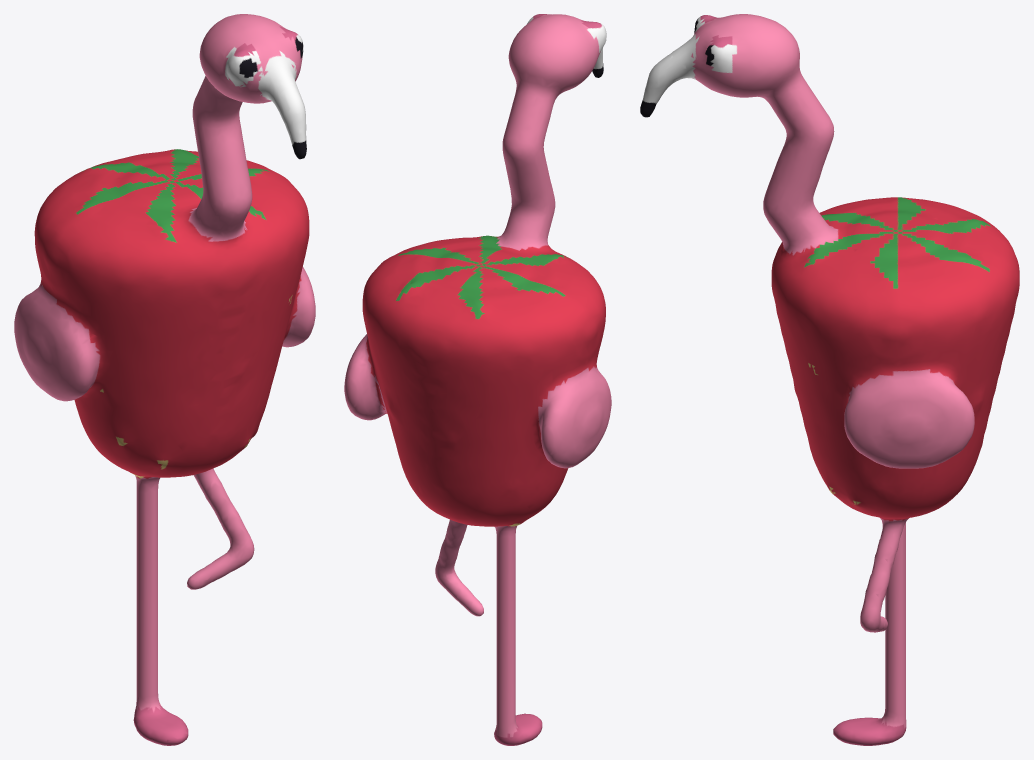
File: SM_Strawberrelli_Flamingelli.fbx
3 views of the same model, side by side, from view 1: azimuth 30°, elevation 25°; view 2: azimuth 150°, elevation 25°; view 3: azimuth 270°, elevation 25° (orthographic). The views are drawn at different scales.
Parts seen in each view (by area): view 1: Strawberrelli_Flamingelli; view 2: Strawberrelli_Flamingelli; view 3: Strawberrelli_Flamingelli.
Boxes of the visible parts, x1=… form: Strawberrelli_Flamingelli: x1=14, y1=14, x2=315, y2=745; Strawberrelli_Flamingelli: x1=344, y1=14, x2=611, y2=745; Strawberrelli_Flamingelli: x1=640, y1=14, x2=1019, y2=745.
Size of the model in its own units: 0.64 by 1.76 by 0.825.
Materials: 1 (1 with a texture image).
